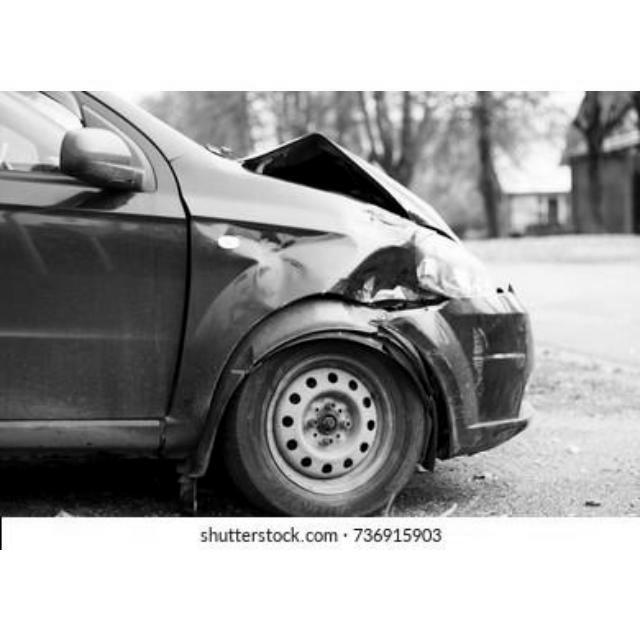fender-dent: (189, 205, 402, 355)
front-bumper-dent: (405, 277, 541, 467)
